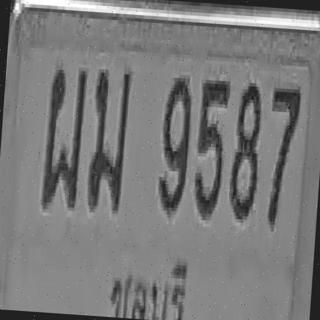A28: (41, 64, 88, 209)
A33: (86, 65, 132, 211)
N05: (192, 76, 231, 218)
N07: (264, 83, 302, 228)
N08: (227, 78, 264, 220)
N09: (156, 74, 193, 215)
P13: (108, 246, 190, 320)
